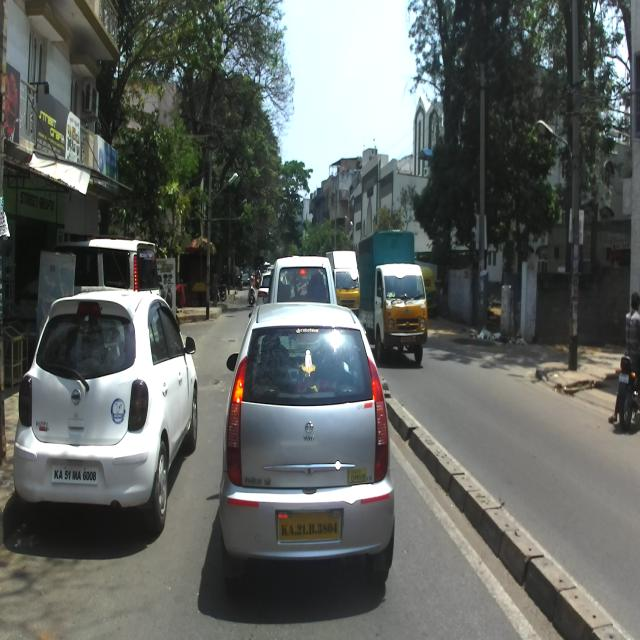car ahead at: (220, 299, 398, 595), (16, 285, 199, 551)
